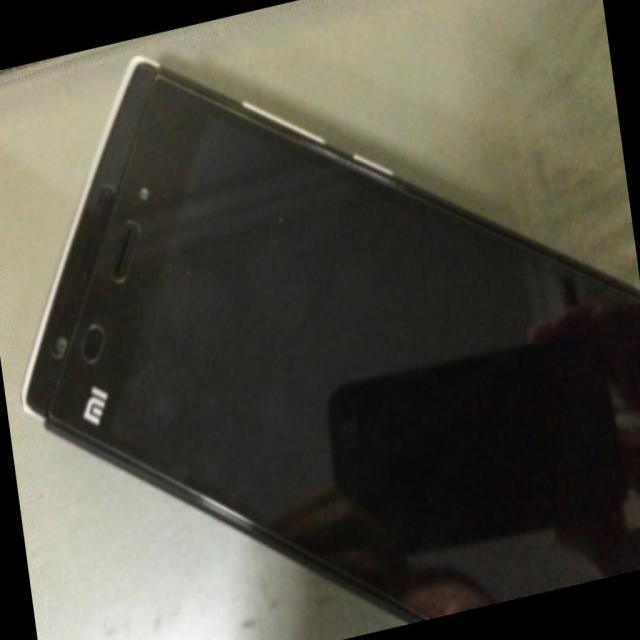handphone: (25, 65, 640, 628)
